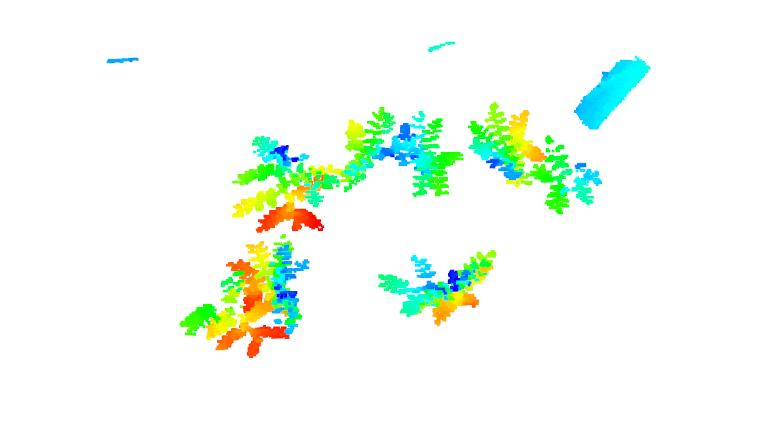chickpea: (229, 135, 338, 232), (376, 248, 502, 328), (225, 236, 310, 318), (466, 103, 547, 188), (179, 300, 294, 359), (394, 108, 466, 198), (527, 133, 604, 215), (334, 101, 396, 191)
